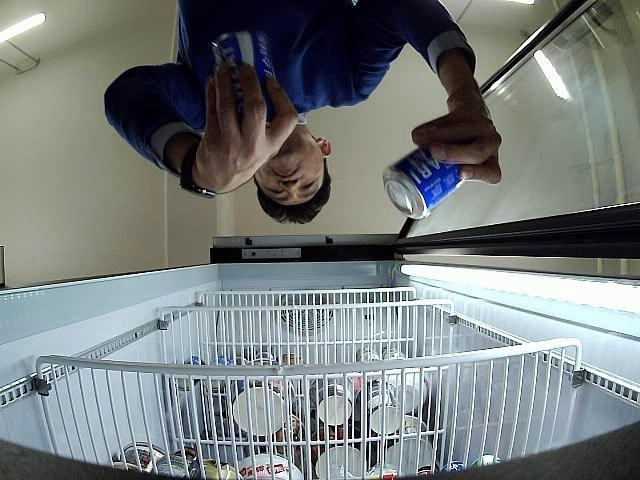13_pocariSweat: (211, 29, 278, 120), (383, 144, 462, 220)
